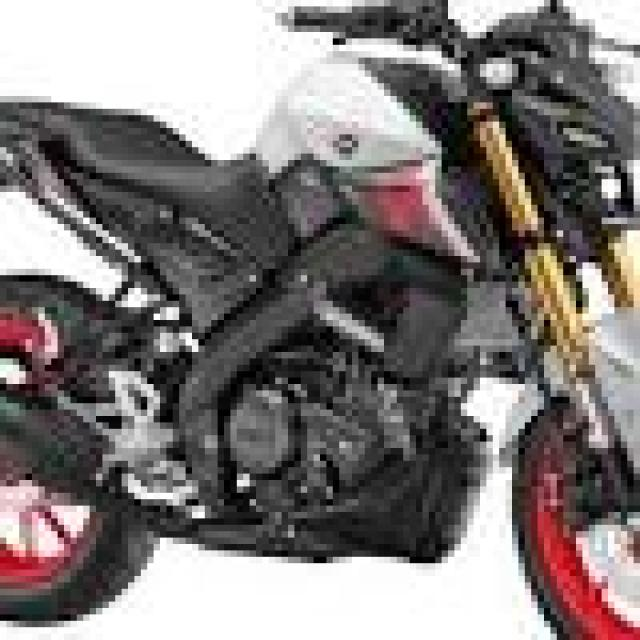MOTORCYCLE: (0, 43, 640, 623)
